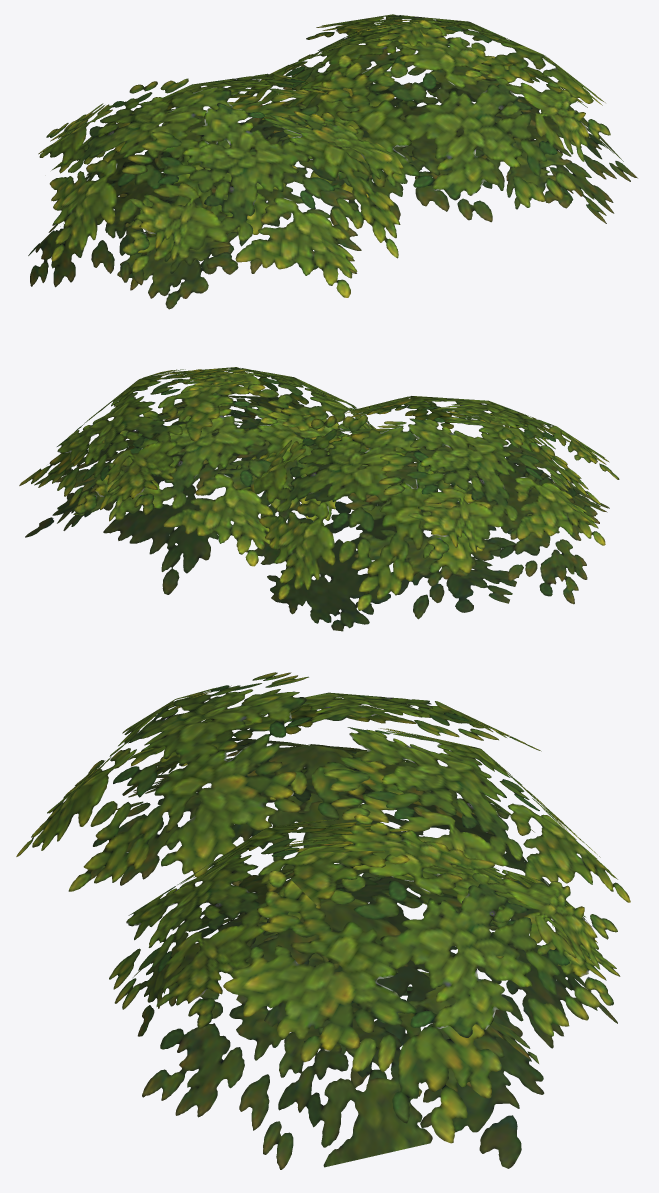
File: Battle01_Cao_01.FBX
The picture shows the model from 3 angles, top to bottom: view 1: azimuth 30°, elevation 25°; view 2: azimuth 150°, elevation 25°; view 3: azimuth 270°, elevation 25°; orthographic projection. The views are drawn at different scales.
Visible parts, largest first — view 1: Battle01_Cao_01; view 2: Battle01_Cao_01; view 3: Battle01_Cao_01.
Boxes of the visible parts, x1,y1,x2,y2 form: Battle01_Cao_01: [28, 14, 637, 309]; Battle01_Cao_01: [19, 367, 619, 631]; Battle01_Cao_01: [16, 672, 630, 1169].
Bounding box in the file's own units: 1.28 × 0.376 × 0.9129.
